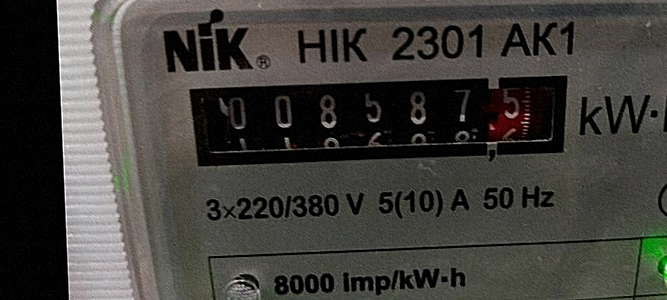0: (270, 89, 295, 130)
1: (224, 91, 249, 133)
5: (499, 81, 524, 122), (361, 86, 385, 125)
7: (450, 84, 474, 126)
8: (314, 89, 340, 131), (406, 86, 428, 127)
screen: (168, 52, 590, 188)
